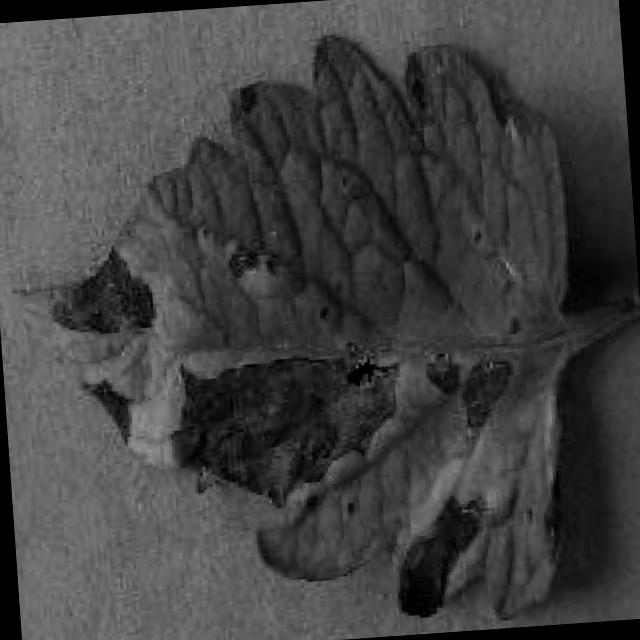leaf blight: (19, 29, 640, 616)
